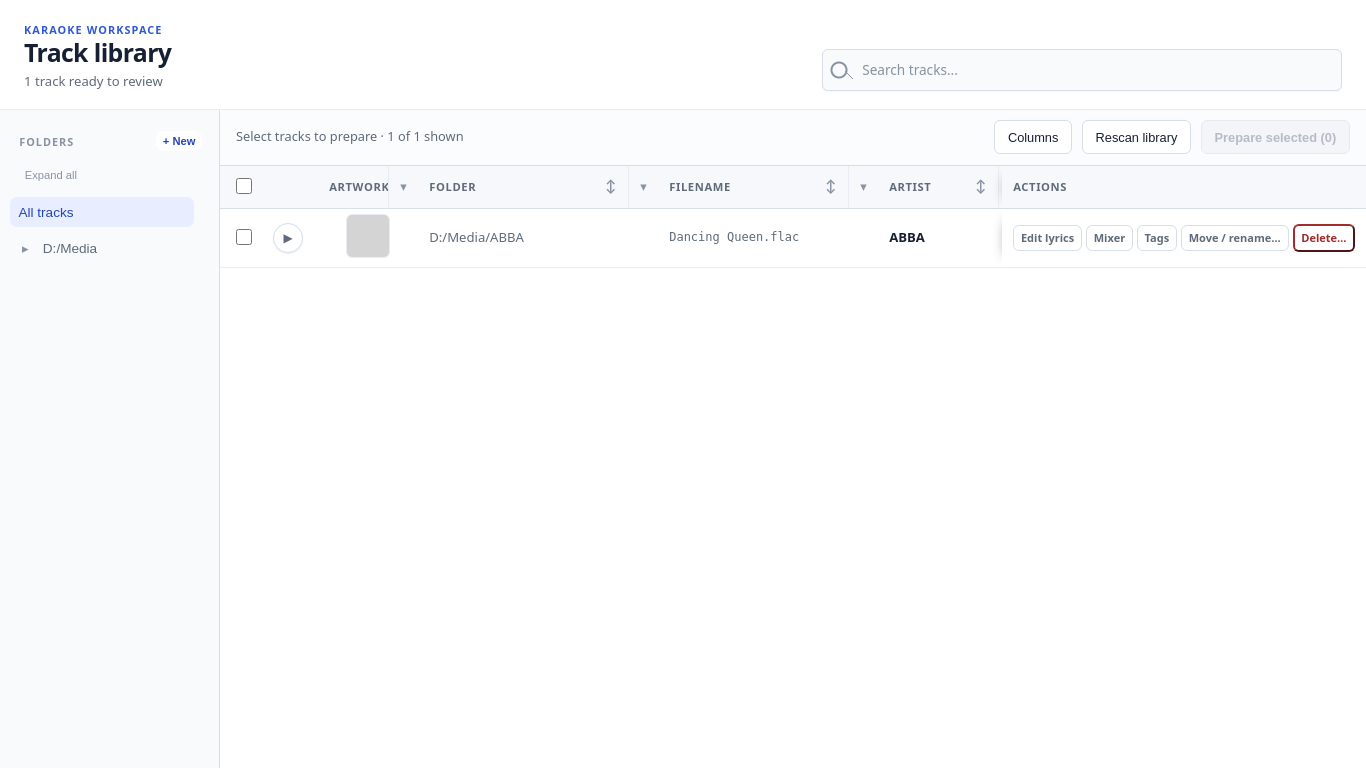
Scenario: Library › shows background progress and publishes newly scanned tracks before the scan finishes
The width and height of the screenshot is (1366, 768).
Check: the text "Dancing Queen" is shown, box [1028,209,1288,268]
Click the button "Rescan library" at (1136, 137), box [1082,120,1191,154]
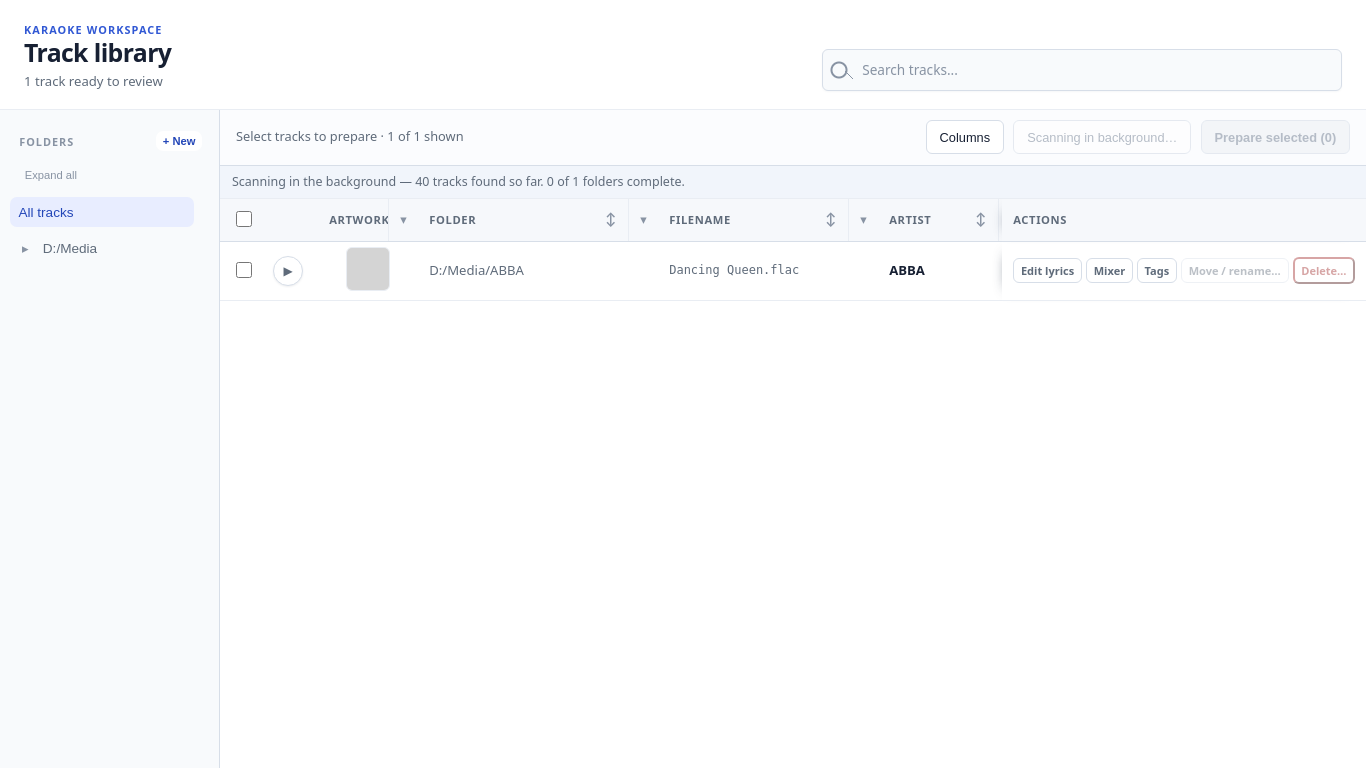
Check: the button "Scanning in background…" is shown, box [1014,120,1191,154]
Check: the text "40 tracks found so far" is shown, box [232,173,685,190]
Check: the text "Found Mid Scan" is shown, box [1028,242,1288,301]
